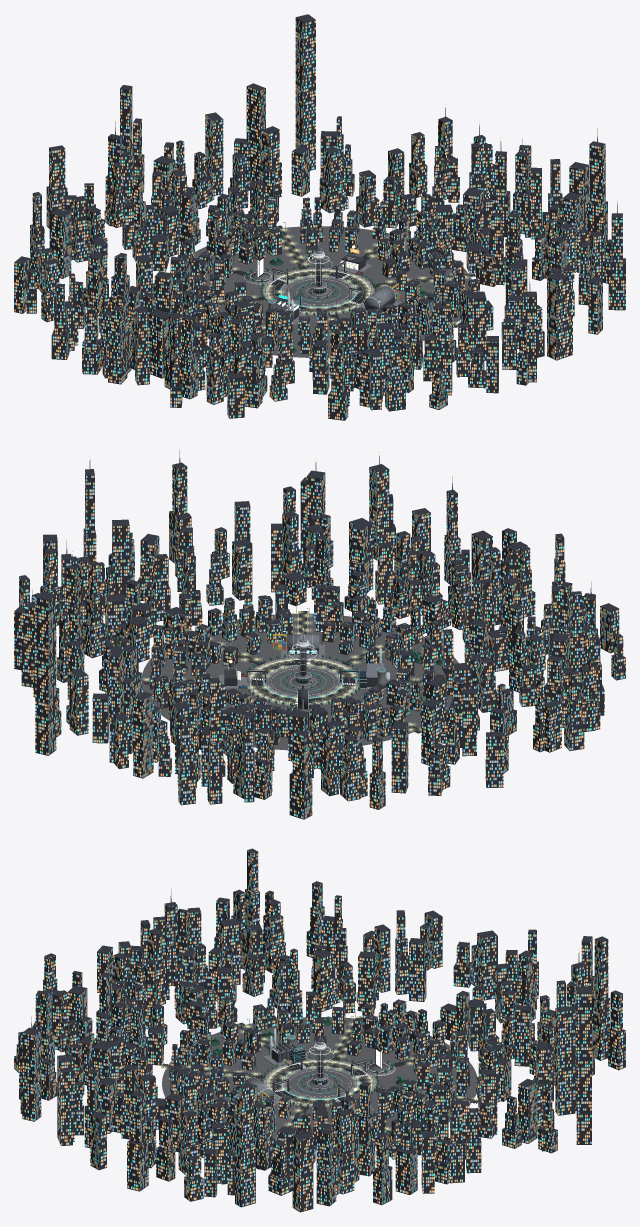
Rendered from ring.glb.
3 renders of one model, top to bottom at view 1: azimuth 30°, elevation 25°; view 2: azimuth 150°, elevation 25°; view 3: azimuth 270°, elevation 25°, orthographic. The views are drawn at different scales.
Parts seen in each view (by area): view 1: Skyline, District_buildings, Ground, LightPools, Road, Plaza, Warehouse_mesh, Streetlights; view 2: Skyline, District_buildings, Ground, LightPools, Road, Plaza, Warehouse_mesh, Factory_mesh, Streetlights, Regulator_mesh, District_roofs; view 3: Skyline, District_buildings, Ground, LightPools, Road, Plaza, Factory_mesh, Streetlights, Trees, Regulator_mesh.
Part boxes in pixels (bbox=[...]): Skyline: bbox=[14, 14, 625, 420]; District_buildings: bbox=[170, 197, 464, 353]; Ground: bbox=[170, 225, 475, 357]; LightPools: bbox=[217, 226, 474, 333]; Road: bbox=[267, 270, 370, 313]; Plaza: bbox=[285, 278, 351, 305]; Warehouse_mesh: bbox=[358, 283, 401, 313]; Streetlights: bbox=[178, 222, 465, 327]; Skyline: bbox=[14, 462, 625, 819]; District_buildings: bbox=[149, 584, 453, 744]; Ground: bbox=[142, 611, 458, 750]; LightPools: bbox=[142, 610, 422, 731]; Road: bbox=[249, 659, 356, 704]; Plaza: bbox=[268, 667, 337, 696]; Warehouse_mesh: bbox=[272, 631, 324, 658]; Factory_mesh: bbox=[353, 648, 389, 689]; Streetlights: bbox=[146, 604, 416, 730]; Regulator_mesh: bbox=[292, 630, 313, 686]; District_roofs: bbox=[153, 583, 452, 711]; Skyline: bbox=[14, 848, 625, 1212]; District_buildings: bbox=[169, 991, 469, 1145]; Ground: bbox=[161, 1016, 478, 1150]; LightPools: bbox=[159, 1015, 478, 1141]; Road: bbox=[267, 1061, 372, 1105]; Plaza: bbox=[286, 1069, 353, 1097]; Factory_mesh: bbox=[262, 1028, 308, 1067]; Streetlights: bbox=[162, 1009, 477, 1138]; Trees: bbox=[211, 1016, 405, 1107]; Regulator_mesh: bbox=[310, 1033, 330, 1087].
Bounding box in the file's own units: 439 × 120 × 434.
Materials: 82 (1 with a texture image).
